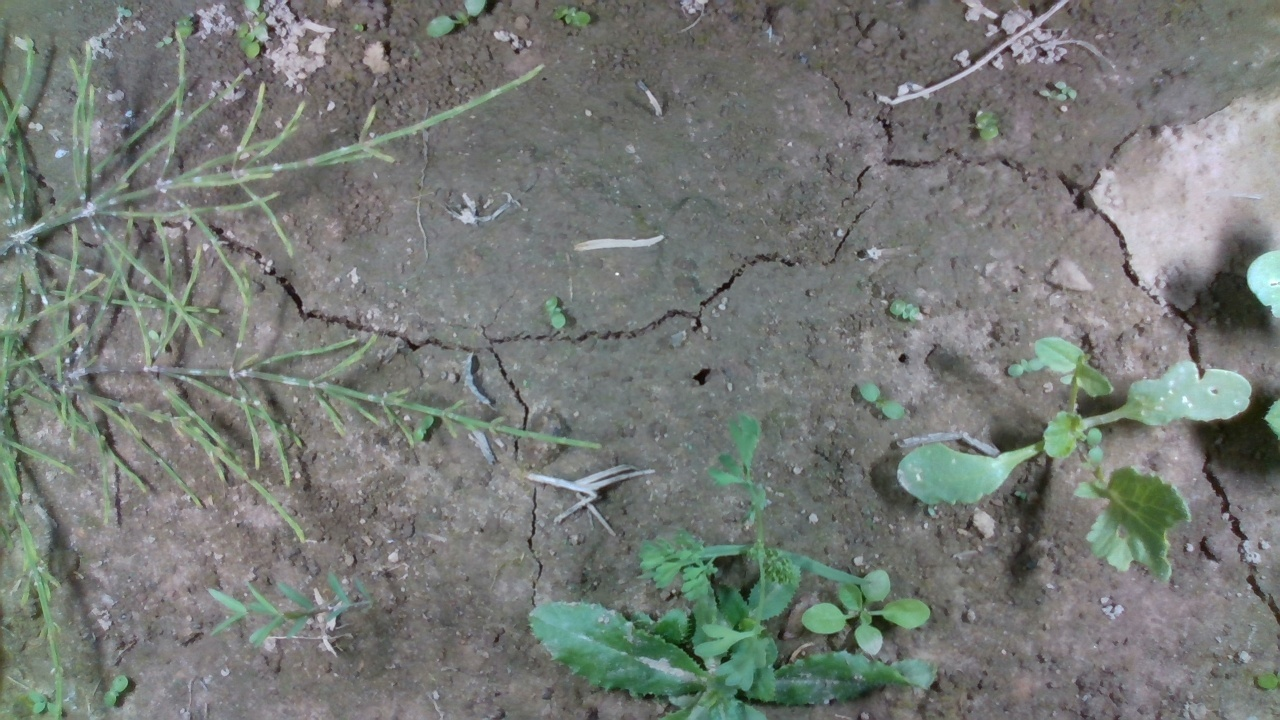weed: (854, 375, 910, 424), (530, 287, 576, 344), (552, 2, 611, 38), (1037, 76, 1087, 113), (888, 290, 927, 332), (966, 105, 1004, 146)
